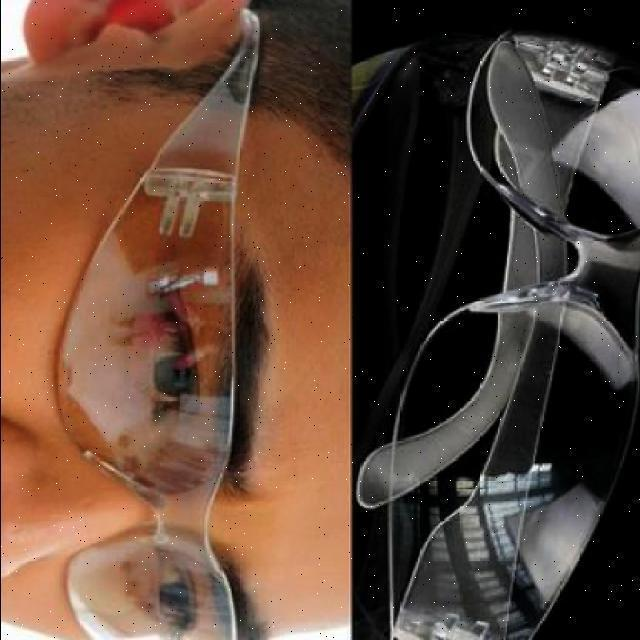Goggles: (351, 16, 639, 640), (53, 7, 277, 640)
